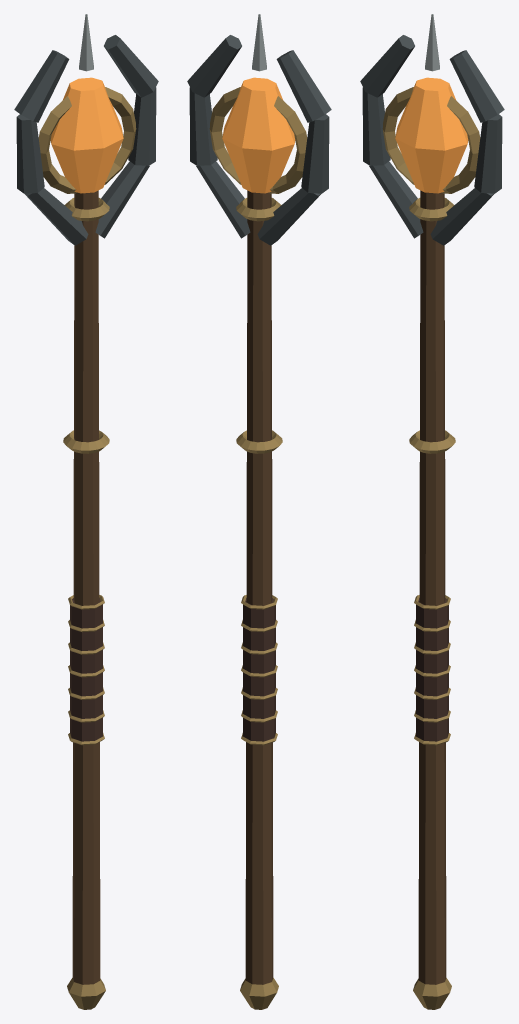
The model's file is WPN_Staff_00_CinderCrook.glb.
The picture shows the model from 3 angles, left to right: view 1: azimuth 30°, elevation 25°; view 2: azimuth 150°, elevation 25°; view 3: azimuth 330°, elevation 25°; orthographic projection.
Parts seen in each view (by area): view 1: WPN_Staff_00_CinderCrook__Body; view 2: WPN_Staff_00_CinderCrook__Body; view 3: WPN_Staff_00_CinderCrook__Body.
Boxes of the visible parts, x1=… form: WPN_Staff_00_CinderCrook__Body: x1=14, y1=14, x2=158, y2=1009; WPN_Staff_00_CinderCrook__Body: x1=187, y1=14, x2=331, y2=1009; WPN_Staff_00_CinderCrook__Body: x1=360, y1=14, x2=504, y2=1009.
Size of the model in its own units: 0.2972 by 2.05 by 0.13.
